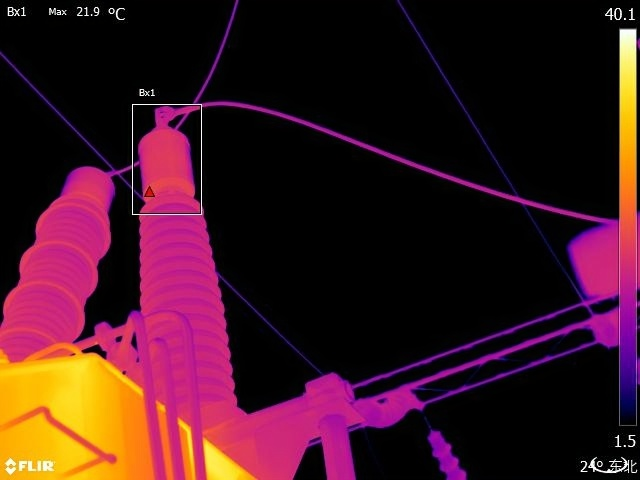insulator: (425, 427, 476, 480)
tube: (129, 101, 250, 426), (1, 150, 123, 366)
